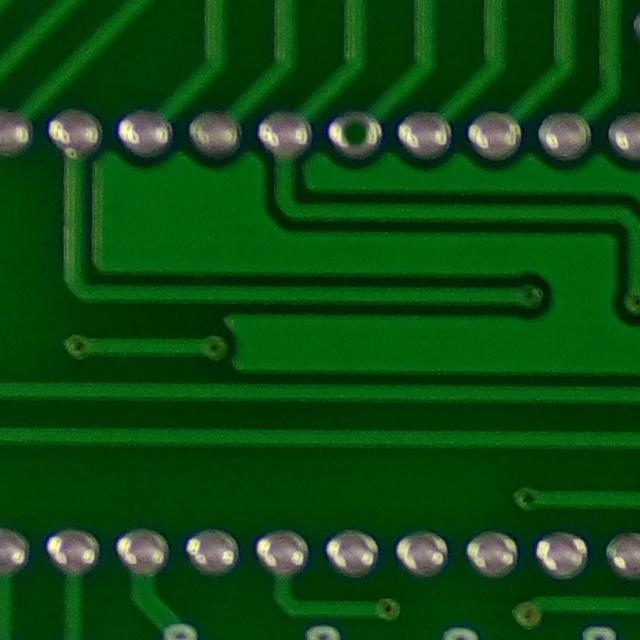missing_hole: (333, 108, 383, 159)
